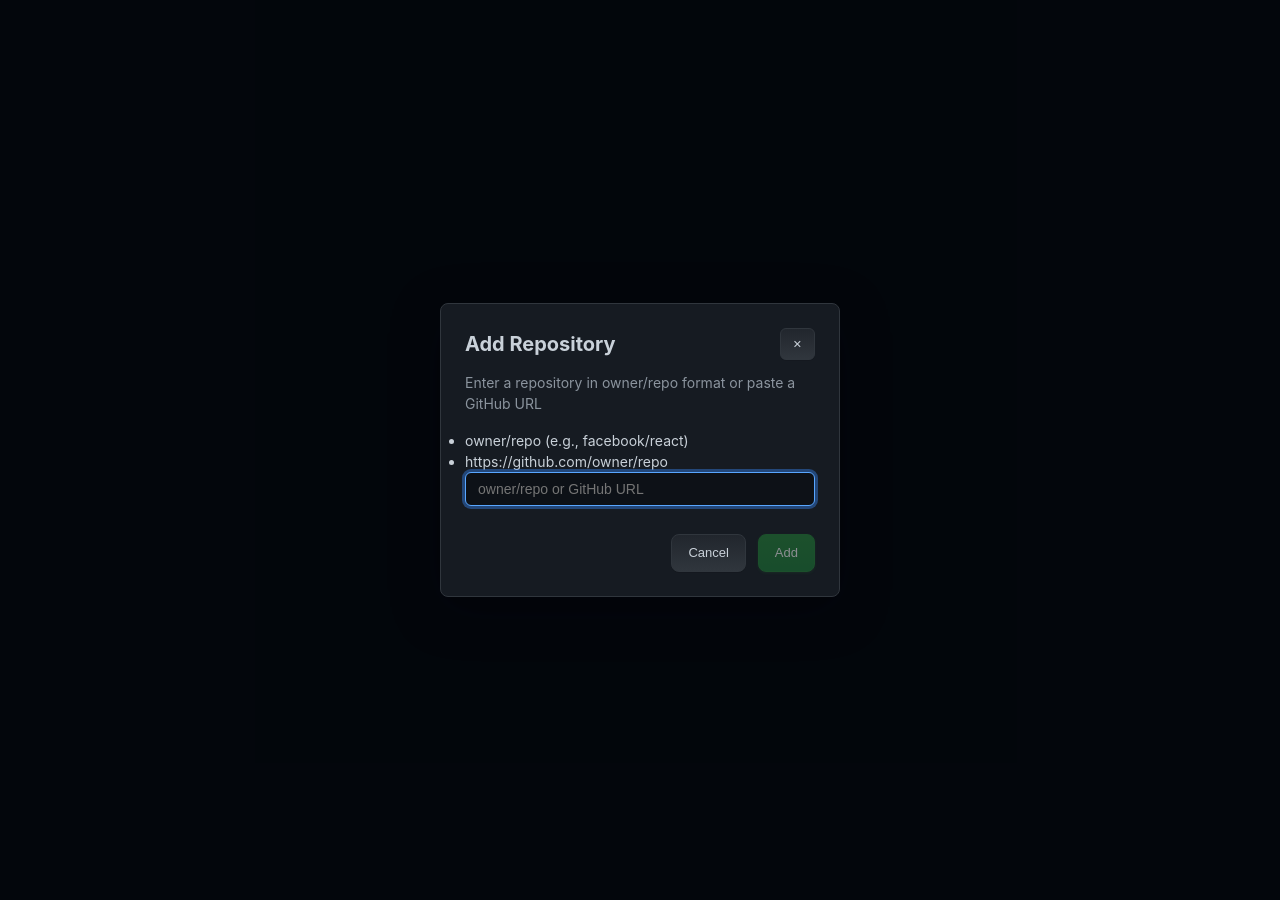
Test: AddRepoDialog › enables submit button when input has value
Type "test" into the field with placeholder "owner/repo or GitHub URL" at coordinates (640, 489), box x1=465 y1=472 x2=815 y2=506
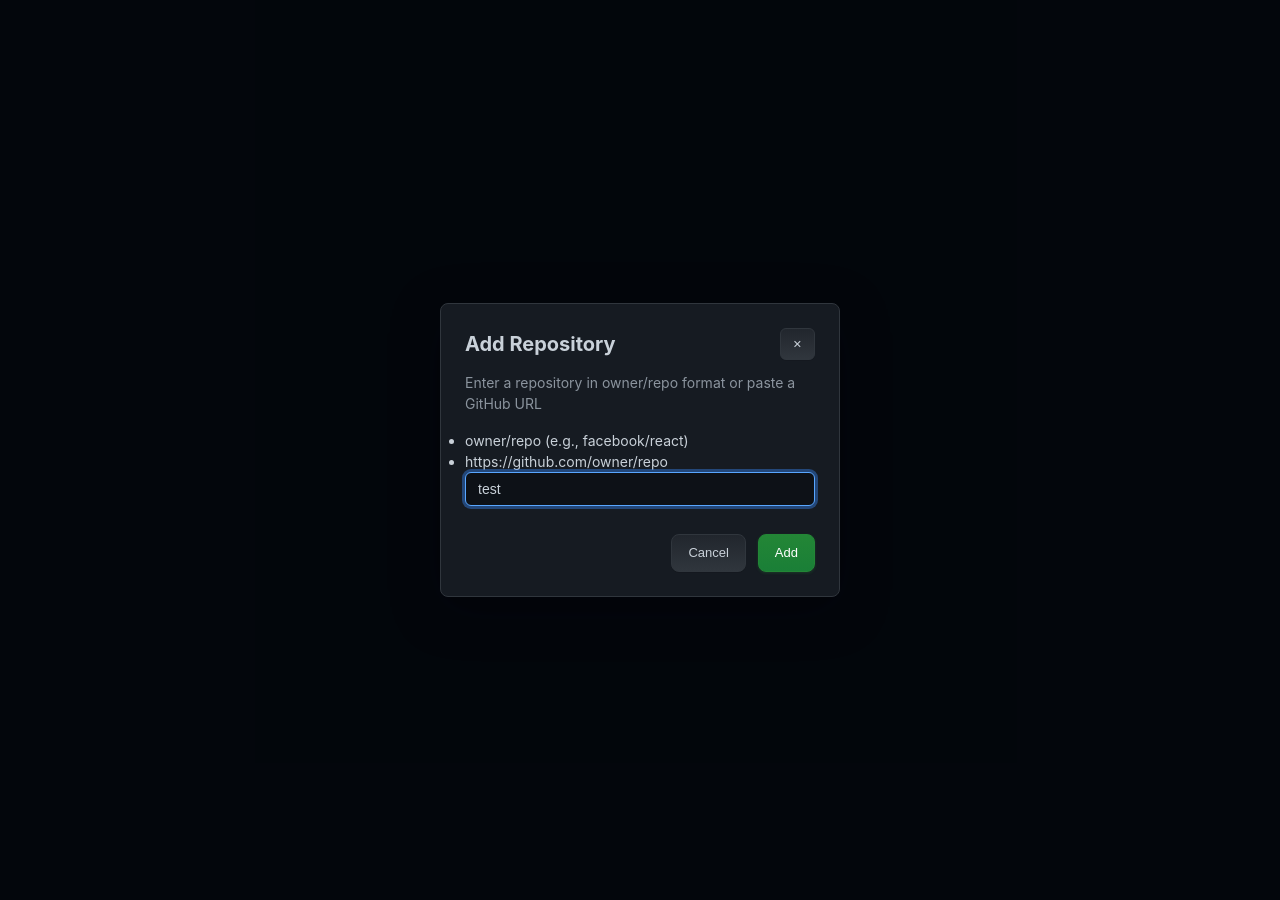
Expected: the button "Add" is enabled, x1=758 y1=534 x2=815 y2=572
